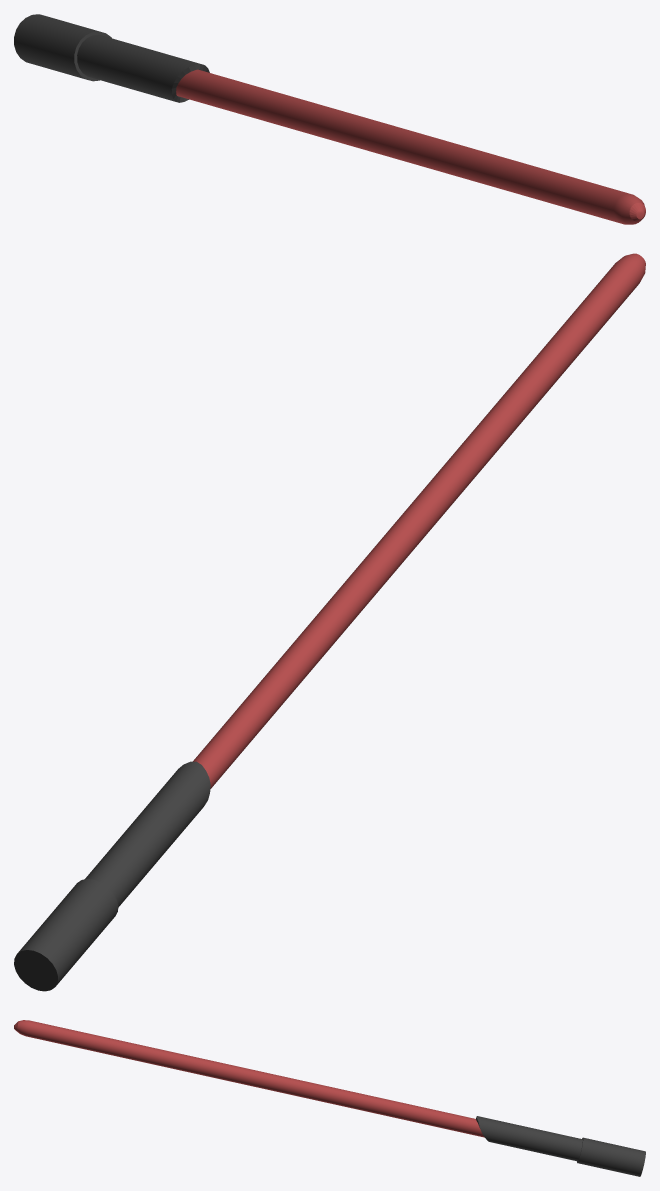
The model's file is saber.fbx.
3 renders of one model, top to bottom at view 1: azimuth 30°, elevation 25°; view 2: azimuth 150°, elevation 25°; view 3: azimuth 270°, elevation 25°, orthographic. The views are drawn at different scales.
Parts seen in each view (by area): view 1: polySurface2, polySurface1; view 2: polySurface2, polySurface1; view 3: polySurface2, polySurface1.
Boxes of the visible parts, <box> form: polySurface2: <box>176,69,645,224</box>; polySurface1: <box>14,14,209,102</box>; polySurface2: <box>193,253,645,788</box>; polySurface1: <box>14,761,210,991</box>; polySurface2: <box>14,1020,484,1137</box>; polySurface1: <box>476,1116,645,1176</box>.
Size of the model in its own units: 3.99 by 25.94 by 95.57.
